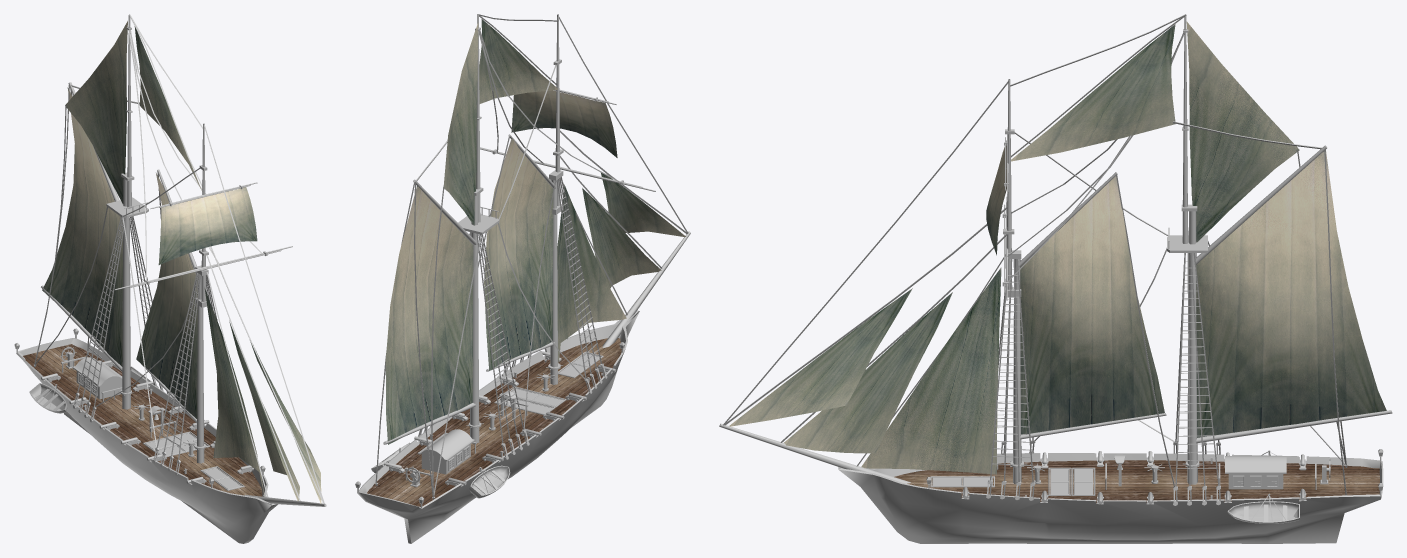
Rendered from Schooner.FBX.
The picture shows the model from 3 angles, left to right: view 1: azimuth 30°, elevation 25°; view 2: azimuth 150°, elevation 25°; view 3: azimuth 270°, elevation 25°; orthographic projection. The views are drawn at different scales.
Visible parts, largest first — view 1: Plane07, Object1046; view 2: Plane07, Object1046; view 3: Plane07, Object1046.
Boxes of the visible parts, x1,y1,x2,y2 form: Plane07: (42,21,321,503); Object1046: (14,14,326,543); Plane07: (385,19,685,444); Object1046: (355,14,690,543); Plane07: (729,21,1386,474); Object1046: (719,14,1392,543).
Bounding box in the file's own units: 0.2644 × 0.7318 × 0.6338.
